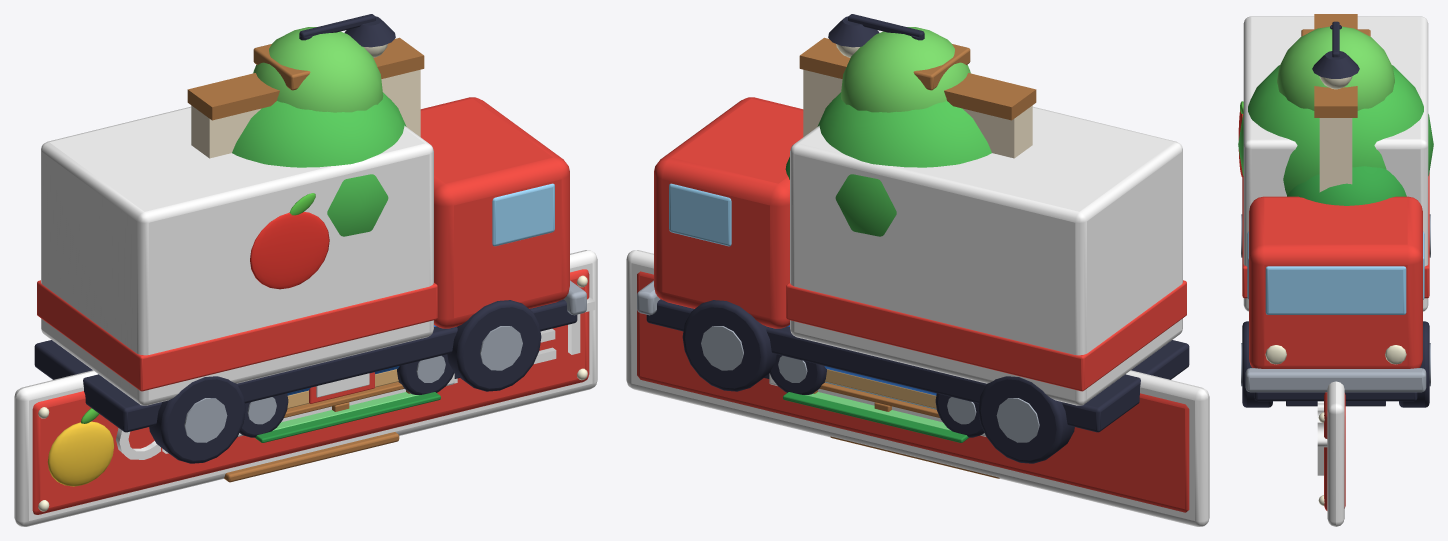
The model's file is models.glb.
The picture shows the model from 3 angles, left to right: view 1: azimuth 30°, elevation 25°; view 2: azimuth 150°, elevation 25°; view 3: azimuth 270°, elevation 25°; orthographic projection. The views are drawn at different scales.
Parts seen in each view (by area): view 1: m285, m287, m238, m286, m258, m237, m284, m261, m297, m301, m293, m203 (+16 smaller); view 2: m285, m287, m238, m286, m237, m258, m284, m261, m299, m295, m203, m199 (+12 smaller); view 3: m287, m285, m258, m288, m261, m290, m259, m237, m199, m203, m284, m271 (+11 smaller).
Part boxes in pixels (box(x1,y1,x2,y2)): m285: box(41, 106, 433, 405); m287: box(420, 97, 569, 328); m238: box(32, 269, 589, 514); m286: box(37, 280, 437, 391); m258: box(232, 92, 406, 236); m237: box(14, 250, 597, 526); m284: box(34, 299, 577, 432); m261: box(253, 27, 383, 112); m297: box(447, 300, 541, 391); m301: box(250, 212, 329, 289); m293: box(149, 376, 245, 463); m203: box(187, 37, 424, 120); m285: box(790, 106, 1182, 405); m287: box(654, 97, 803, 328); m238: box(637, 271, 1189, 512); m286: box(786, 280, 1186, 391); m237: box(626, 250, 1209, 526); m258: box(817, 92, 991, 236); m284: box(646, 299, 1189, 432); m261: box(840, 27, 970, 112); m299: box(682, 300, 776, 391); m295: box(978, 376, 1074, 463); m203: box(799, 37, 1036, 120); m199: box(803, 69, 1032, 158); m287: box(1249, 196, 1422, 368); m285: box(1243, 16, 1428, 311); m258: box(1238, 65, 1433, 195); m288: box(1265, 266, 1406, 314); m261: box(1277, 26, 1394, 110); m290: box(1245, 368, 1426, 392); m259: box(1287, 166, 1406, 205); m237: box(1327, 381, 1344, 526); m199: box(1319, 118, 1352, 192); m203: box(1314, 14, 1357, 117); m284: box(1254, 392, 1417, 401); m271: box(1312, 51, 1359, 78).
Size of the model in its own units: 5.5 by 3.86 by 1.8.
